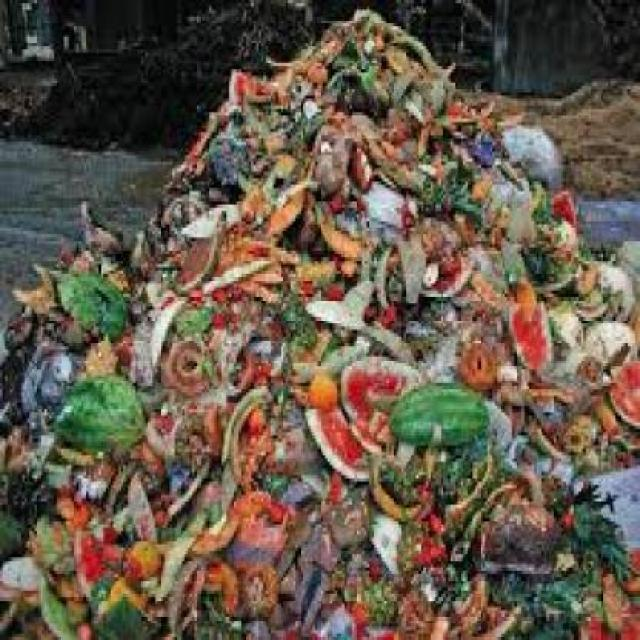garbage: (225, 52, 639, 636), (3, 248, 220, 630)
